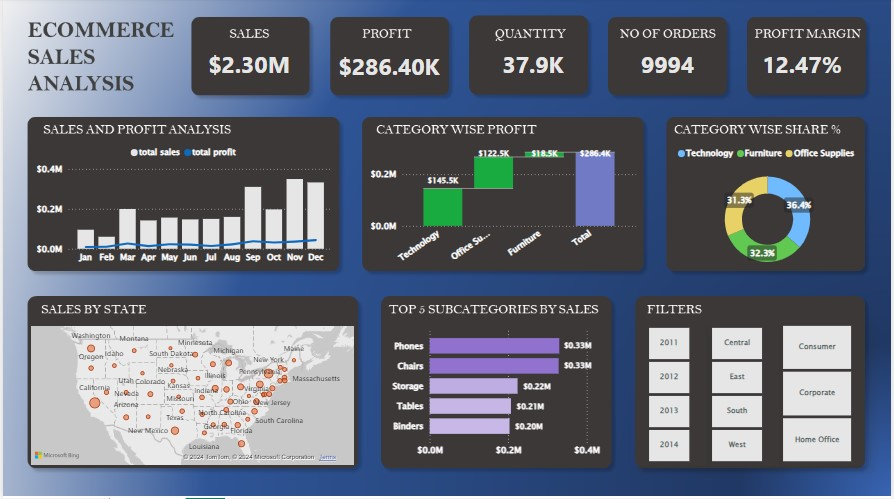

The page's visual inventory and layout, read from the dashboard file:
{"tool":"powerbi","page":{"name":"Page 1","canvas":[1280,720],"ordinal":0},"visuals":[{"type":"lineClusteredColumnComboChart","fields":{"Category":["Data.month"],"Y":["measure table.total sales"],"Y2":["measure table.total profit"]},"box":[43.2,203,436.3,190.1],"z":0},{"type":"slicer","fields":{"Values":["Data.Year"]},"box":[904.3,468,108,205.9],"z":1000},{"type":"slicer","fields":{"Values":["Data.Region"]},"box":[995,468,122.4,205.9],"z":2000},{"type":"slicer","fields":{"Values":["Data.Segment"]},"box":[1097.3,465.1,148.3,208.8],"z":3000},{"type":"waterfallChart","fields":{"Category":["Data.Category"],"Y":["measure table.total profit"]},"box":[524.2,203,393.1,190.1],"z":4000},{"type":"donutChart","fields":{"Category":["Data.Category"],"Y":["measure table.total sales"]},"box":[956.2,204.5,289.4,200.2],"z":5000},{"type":"map","fields":{"Size":["measure table.total sales"],"Category":["Data.State"]},"box":[36,468,473.8,210.2],"z":6000},{"type":"barChart","fields":{"Category":["Data.Sub-Category"],"Y":["measure table.total sales"]},"box":[554.4,465.1,316.8,205.9],"z":7000},{"type":"card","fields":{"Values":["measure table.Profit Margin%"]},"box":[1054.2,55.8,193,77.8],"z":8000},{"type":"card","fields":{"Values":["measure table.total quantity"]},"box":[666.8,55.8,193,77.8],"z":10000},{"type":"card","fields":{"Values":["measure table.total profit"]},"box":[458.7,58.7,193,78],"z":12000},{"type":"card","fields":{"Values":["measure table.total sales"]},"box":[257.9,56.3,193,77.8],"z":14000},{"type":"card","fields":{"Values":["measure table.No Of Orders"]},"box":[859.8,55.8,194.4,77.8],"z":16000}]}

Visuals, with their boxes in screenshot pixels (x1, y1, x2, y2), scaled from the page's 1280x720 canvas onto the 894x499 screenshot:
lineClusteredColumnComboChart - Data.month x measure table.total sales: [x1=30, y1=141, x2=335, y2=272]
slicer - Data.Year: [x1=632, y1=324, x2=707, y2=467]
slicer - Data.Region: [x1=695, y1=324, x2=780, y2=467]
slicer - Data.Segment: [x1=766, y1=322, x2=870, y2=467]
waterfallChart - Data.Category x measure table.total profit: [x1=366, y1=141, x2=641, y2=272]
donutChart - Data.Category x measure table.total sales: [x1=668, y1=142, x2=870, y2=280]
map - measure table.total sales x Data.State: [x1=25, y1=324, x2=356, y2=470]
barChart - Data.Sub-Category x measure table.total sales: [x1=387, y1=322, x2=608, y2=465]
card - measure table.Profit Margin%: [x1=736, y1=39, x2=871, y2=93]
card - measure table.total quantity: [x1=466, y1=39, x2=601, y2=93]
card - measure table.total profit: [x1=320, y1=41, x2=455, y2=95]
card - measure table.total sales: [x1=180, y1=39, x2=315, y2=93]
card - measure table.No Of Orders: [x1=601, y1=39, x2=736, y2=93]
